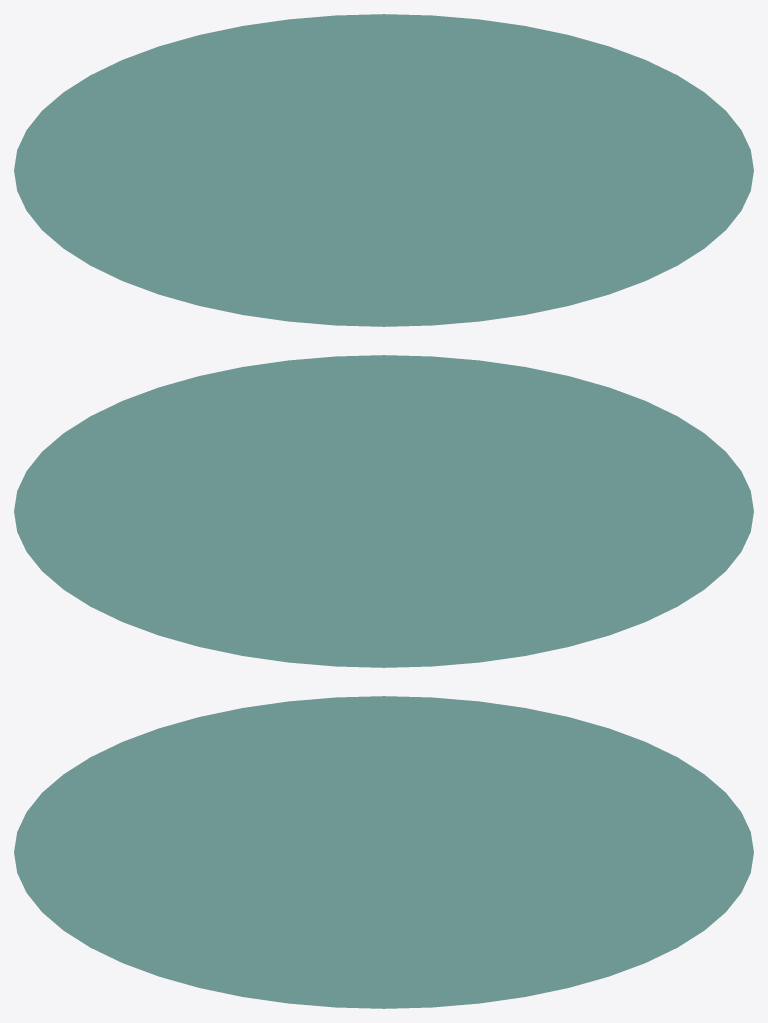
Rendered from GoldFxWater.glb.
3 views of the same model, one above another, from view 1: azimuth 30°, elevation 25°; view 2: azimuth 150°, elevation 25°; view 3: azimuth 270°, elevation 25° (orthographic).
Parts seen in each view (by area): view 1: GoldFxWater.002; view 2: GoldFxWater.002; view 3: GoldFxWater.002.
Boxes of the visible parts, bbox=[...] form: GoldFxWater.002: bbox=[14, 14, 753, 326]; GoldFxWater.002: bbox=[14, 355, 753, 667]; GoldFxWater.002: bbox=[14, 696, 753, 1008].
Bounding box in the file's own units: 0.296 × 0 × 0.296.
